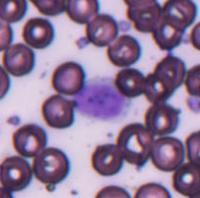L: (73, 79, 130, 122)
